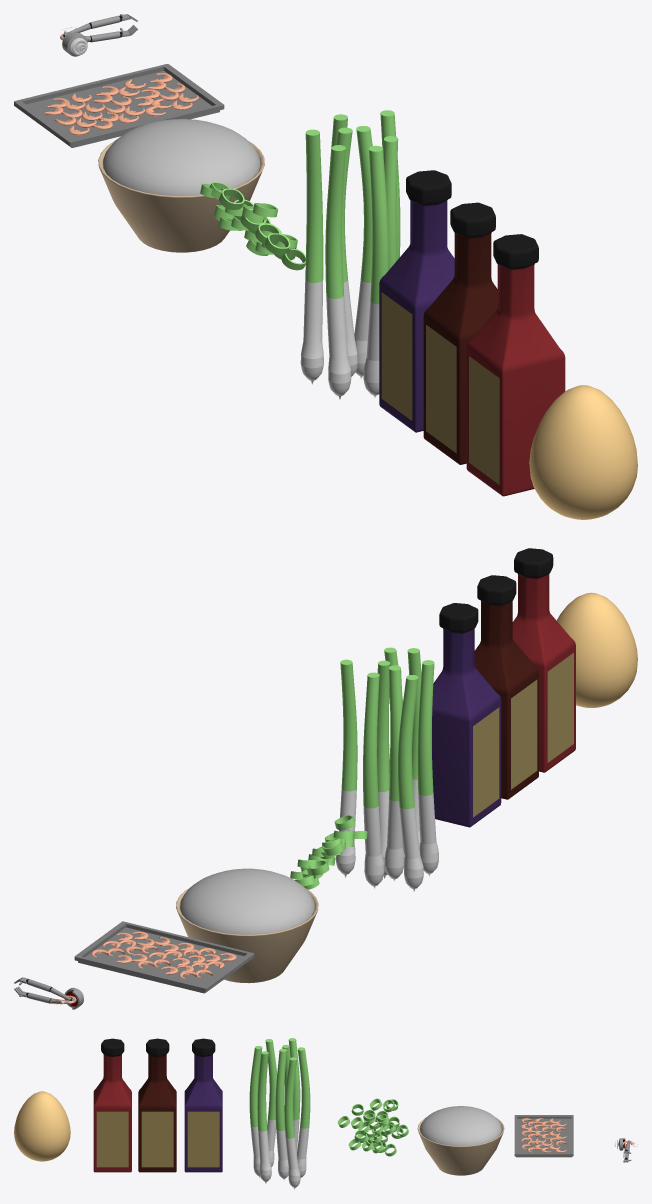
The model's file is ingredients and character model.fbx.
The picture shows the model from 3 angles, top to bottom: view 1: azimuth 30°, elevation 25°; view 2: azimuth 150°, elevation 25°; view 3: azimuth 270°, elevation 25°; orthographic projection. The views are drawn at different scales.
Visible parts, largest first — view 1: Cube.001, Cube.002, Cube, Sphere, Sphere.001, Cube.003, Cylinder.037, Cylinder.005, Cylinder.007, Cylinder, Cylinder.002, Cylinder.006 (+2 smaller); view 2: Cube.002, Cube, Cube.001, Sphere.001, Sphere, Cube.003, Cylinder.037, Cylinder.005, Cylinder.004, Cylinder.007, Cylinder.003, Cylinder.006 (+2 smaller); view 3: Cube, Cube.002, Cube.001, Sphere, Sphere.001, Cube.003, Cylinder.037, Cylinder.001, Cylinder.003, Cylinder.002, Cylinder.004, Cylinder (+2 smaller).
Part boxes in pixels (x1,y1,x2,y2): Cube.001: (466,234,565,496); Cube.002: (379,170,454,432); Cube: (423,202,497,464); Sphere: (529,385,637,519); Sphere.001: (103,119,260,195); Cube.003: (14,64,224,147); Cylinder.037: (98,141,264,252); Cylinder.005: (300,129,323,384); Cylinder.007: (325,145,351,399); Cylinder: (363,145,388,398); Cylinder.002: (354,126,372,379); Cylinder.006: (336,127,357,376); Cube.002: (432,603,501,827); Cube: (474,575,538,799); Cube.001: (512,548,575,772); Sphere.001: (180,868,314,934); Sphere: (556,592,637,707); Cube.003: (74,921,254,993); Cylinder.037: (176,888,318,983); Cylinder.005: (398,675,423,891); Cylinder.004: (363,672,384,889); Cylinder.007: (417,660,438,876); Cylinder.003: (335,659,357,877); Cylinder.006: (384,665,404,881); Cube: (138,1038,176,1172); Cube.002: (184,1038,222,1172); Cube.001: (93,1038,131,1172); Sphere: (14,1091,70,1161); Sphere.001: (420,1106,501,1146); Cube.003: (514,1115,573,1157); Cylinder.037: (417,1118,504,1175); Cylinder.001: (257,1051,271,1183); Cylinder.003: (284,1057,300,1189); Cylinder.002: (275,1048,288,1180); Cylinder.004: (297,1047,310,1177); Cylinder: (249,1046,262,1177).
Bounding box in the file's own units: 393 × 527 × 2202.
